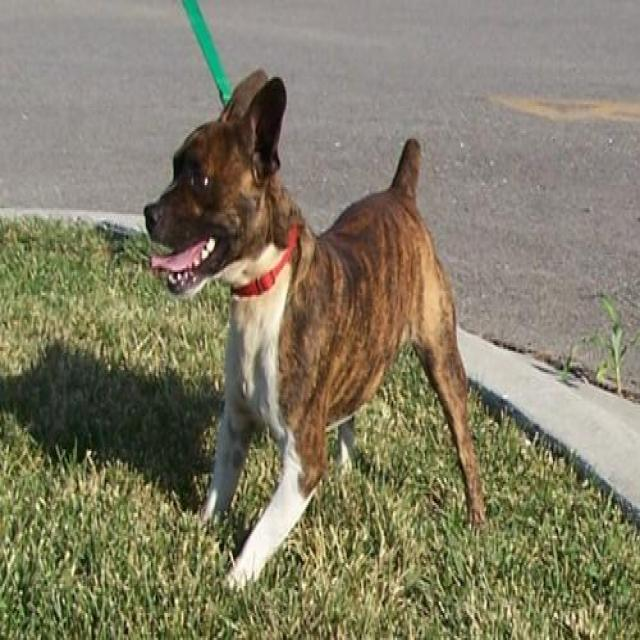Dogs: (140, 66, 488, 594)
